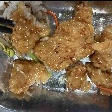guobaorou: (5, 2, 112, 97)
